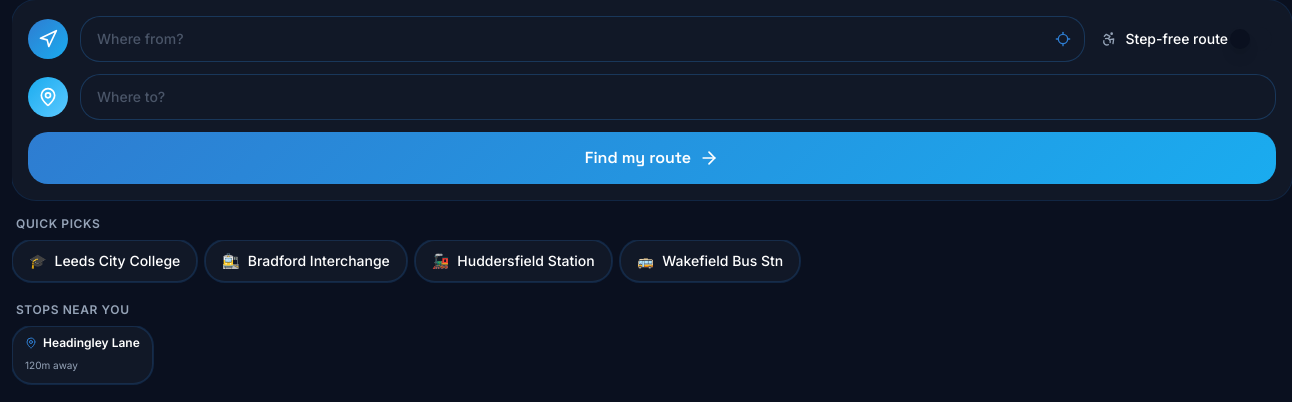
Test: NearbyStopsRow → JourneySearch › populates the 'Where from?' field when a nearby stop is tapped
Expected: the field with placeholder "Where from?" is empty, [80,16,1086,62]
Click the button "Headingley Lane 120m away": [82, 355] box [12,326,153,384]
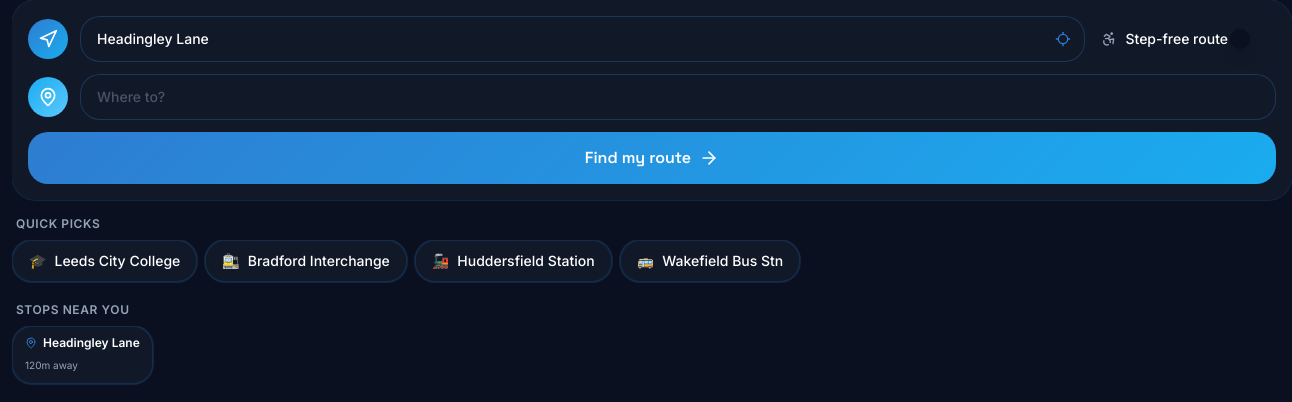
Expected: the field with placeholder "Where from?" holds "Headingley Lane", [80,16,1086,62]
